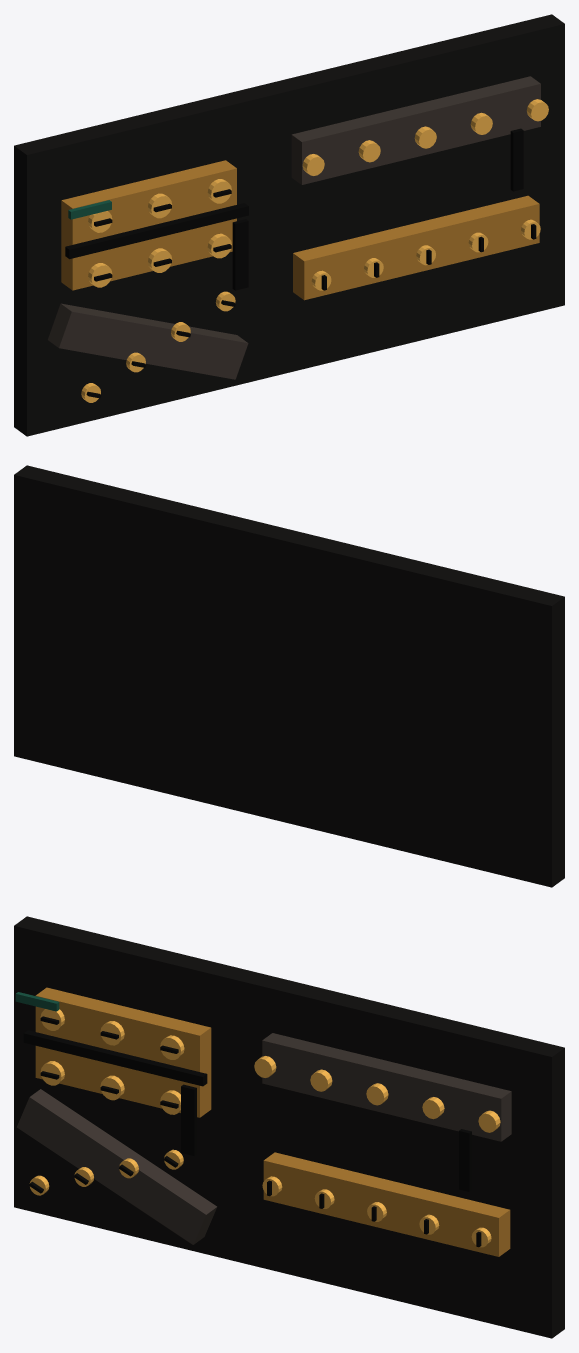
File: WPB_005_FastenerPlates_Staged.obj
3 views of the same model, one above another, from view 1: azimuth 30°, elevation 25°; view 2: azimuth 150°, elevation 25°; view 3: azimuth 330°, elevation 25° (orthographic).
Visible parts, largest first — view 1: fastener_reference_backer, repair_strap_horizontal, inspection_plate_large, boiler_band_sample, angled_brace_plate_sample, thin_gasket_shadow_under_large_plate, fastener_oil_run_01, fastener_oil_run_02; view 2: fastener_reference_backer; view 3: fastener_reference_backer, repair_strap_horizontal, inspection_plate_large, boiler_band_sample, angled_brace_plate_sample, thin_gasket_shadow_under_large_plate, fastener_oil_run_01, fastener_oil_run_02.
Boxes of the visible parts, left/top/right/bottom form: fastener_reference_backer: left=14, top=14, right=564, bottom=436; repair_strap_horizontal: left=291, top=76, right=540, bottom=184; inspection_plate_large: left=61, top=160, right=236, bottom=290; boiler_band_sample: left=293, top=195, right=539, bottom=300; angled_brace_plate_sample: left=48, top=303, right=248, bottom=379; thin_gasket_shadow_under_large_plate: left=65, top=203, right=248, bottom=259; fastener_oil_run_01: left=232, top=219, right=248, bottom=290; fastener_oil_run_02: left=510, top=128, right=523, bottom=191; fastener_reference_backer: left=14, top=465, right=564, bottom=887; fastener_reference_backer: left=14, top=916, right=564, bottom=1338; repair_strap_horizontal: left=262, top=1033, right=511, bottom=1141; inspection_plate_large: left=35, top=987, right=211, bottom=1117; boiler_band_sample: left=263, top=1152, right=510, bottom=1256; angled_brace_plate_sample: left=17, top=1089, right=216, bottom=1244; thin_gasket_shadow_under_large_plate: left=23, top=1030, right=207, bottom=1086; fastener_oil_run_01: left=181, top=1084, right=196, bottom=1155; fastener_oil_run_02: left=459, top=1129, right=471, bottom=1191.
Size of the model in its own units: 0.72 by 0.36 by 0.084.
